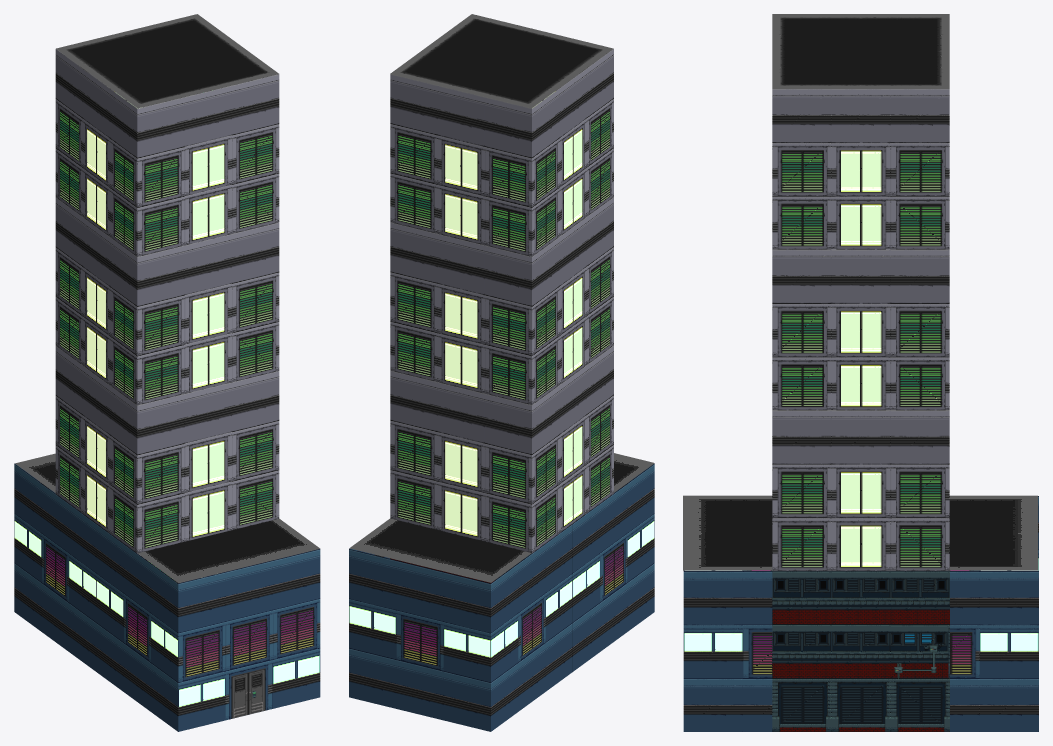
The model's file is cyber-city.glb.
3 views of the same model, side by side, from view 1: azimuth 30°, elevation 25°; view 2: azimuth 150°, elevation 25°; view 3: azimuth 270°, elevation 25° (orthographic). The views are drawn at different scales.
Parts seen in each view (by area): view 1: terrace_walls, tower_walls.003, tower_walls.002, tower_walls.001, tower_roof, terrace_roof; view 2: terrace_walls, tower_walls.003, tower_walls.002, tower_walls.001, tower_roof, terrace_roof; view 3: terrace_walls, tower_walls.002, tower_walls.001, tower_walls.003, corner_walls, terrace_roof, tower_roof.
Part boxes in pixels (x1,y1,x2,y2): terrace_walls: (14,463,320,731); tower_walls.003: (55,49,279,256); tower_walls.002: (55,197,279,405); tower_walls.001: (55,346,279,553); tower_roof: (56,14,278,108); terrace_roof: (15,453,320,583); terrace_walls: (349,463,654,731); tower_walls.003: (390,48,613,256); tower_walls.002: (390,197,613,404); tower_walls.001: (390,345,613,553); tower_roof: (390,14,613,108); terrace_roof: (349,453,654,582); terrace_walls: (683,496,1038,731); tower_walls.002: (772,249,949,410); tower_walls.001: (772,410,949,570); tower_walls.003: (772,89,949,249); corner_walls: (772,571,949,731); terrace_roof: (683,495,1037,570); tower_roof: (772,14,949,88).
Size of the model in its own units: 1 by 3.99 by 2.
Materials: 12 (12 with a texture image).
